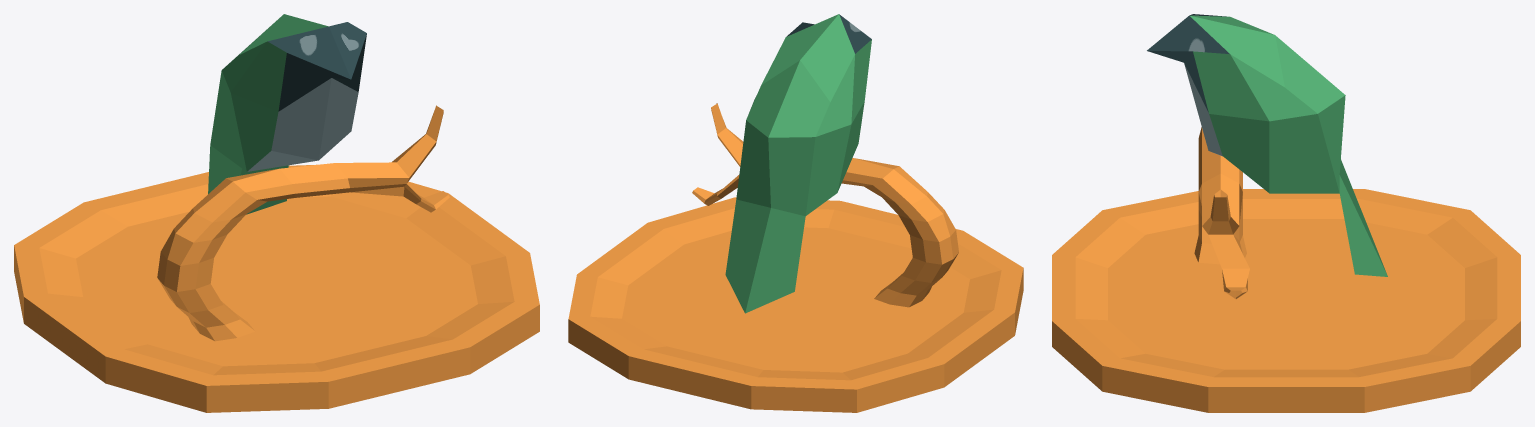
Rendered from piruças_statue.glb.
The picture shows the model from 3 angles, left to right: view 1: azimuth 30°, elevation 25°; view 2: azimuth 150°, elevation 25°; view 3: azimuth 270°, elevation 25°; orthographic projection. The views are drawn at different scales.
Parts seen in each view (by area): view 1: the emerald piruças; view 2: the emerald piruças; view 3: the emerald piruças.
Boxes of the visible parts, x1,y1,x2,y2 form: the emerald piruças: [14, 14, 539, 412]; the emerald piruças: [568, 14, 1023, 412]; the emerald piruças: [1052, 14, 1520, 412].
Bounding box in the file's own units: 0.5008 × 0.3522 × 0.5008.
Materials: 1 (1 with a texture image).
